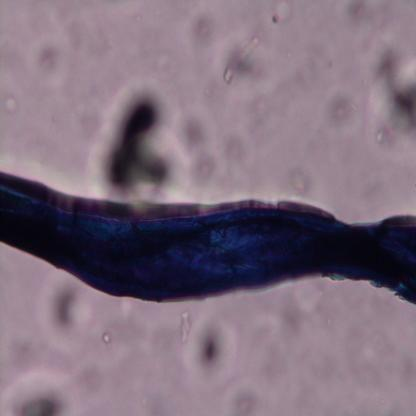Background material: (88, 72, 189, 202), (364, 34, 416, 152), (178, 308, 239, 389), (262, 280, 306, 380), (0, 363, 78, 415), (43, 276, 92, 347), (181, 107, 222, 184), (25, 28, 72, 88), (220, 35, 272, 85), (324, 83, 362, 133), (225, 380, 262, 412), (284, 162, 314, 197), (345, 0, 374, 31), (266, 0, 292, 28), (7, 92, 22, 115), (101, 330, 112, 346)
Cotton: (0, 171, 416, 313)
